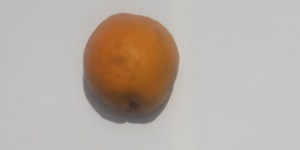BAD: (84, 11, 179, 118)
